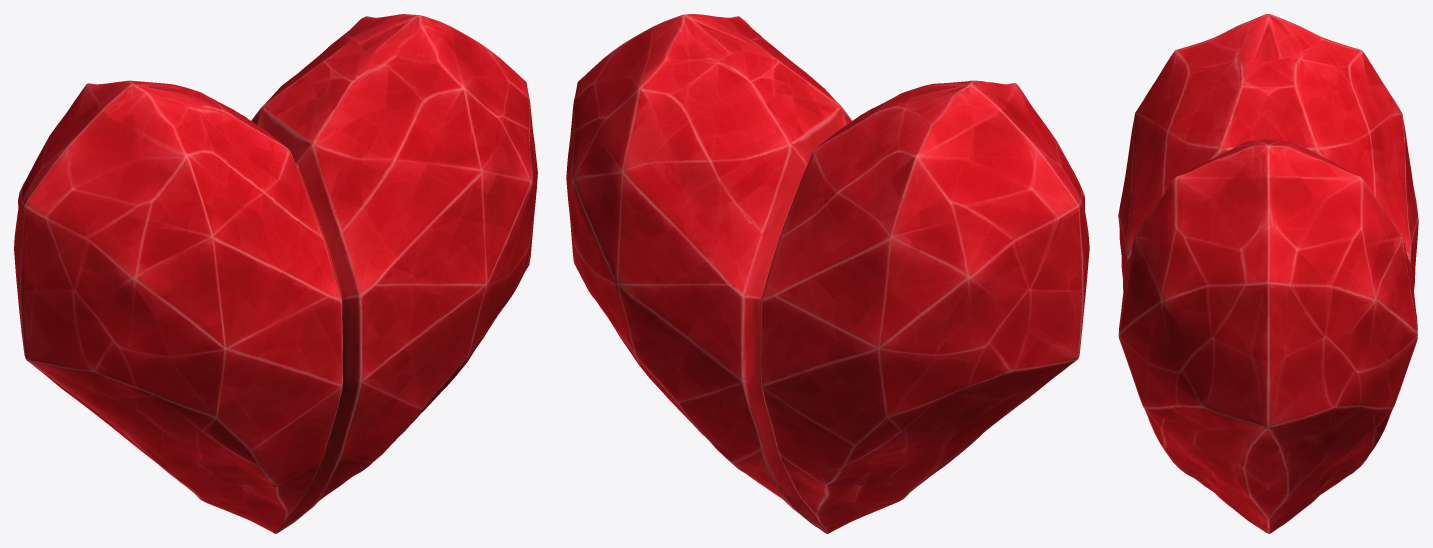
The model's file is bonus_heart_2_MIDHIGH_20k.fbx.
3 views of the same model, side by side, from view 1: azimuth 30°, elevation 25°; view 2: azimuth 150°, elevation 25°; view 3: azimuth 270°, elevation 25° (orthographic). The views are drawn at different scales.
Parts seen in each view (by area): view 1: HIGH; view 2: HIGH; view 3: HIGH.
Boxes of the visible parts, <box> form: HIGH: <box>14,14,537,533</box>; HIGH: <box>566,14,1089,533</box>; HIGH: <box>1118,14,1418,533</box>.
Size of the model in its own units: 1.9 by 1.72 by 1.03.
Materials: 1 (1 with a texture image).
